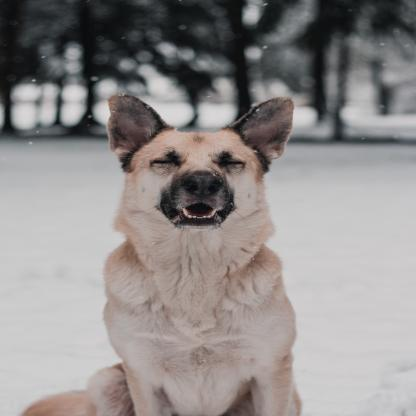dog: (33, 96, 306, 416)
